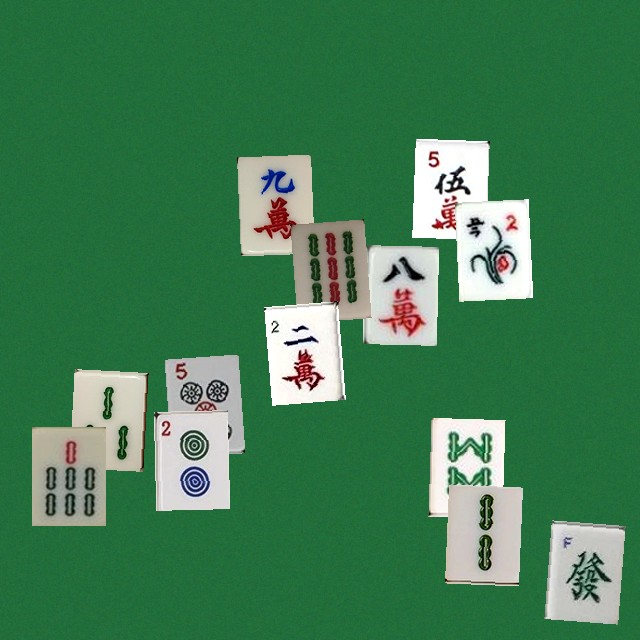tile: (237, 154, 311, 253), (164, 354, 238, 453), (362, 245, 436, 344), (412, 138, 486, 237), (454, 199, 528, 298), (428, 417, 502, 516), (69, 369, 143, 468), (290, 219, 364, 318), (544, 520, 618, 619), (264, 301, 338, 400), (444, 484, 518, 583), (31, 426, 105, 525), (153, 410, 227, 509)
